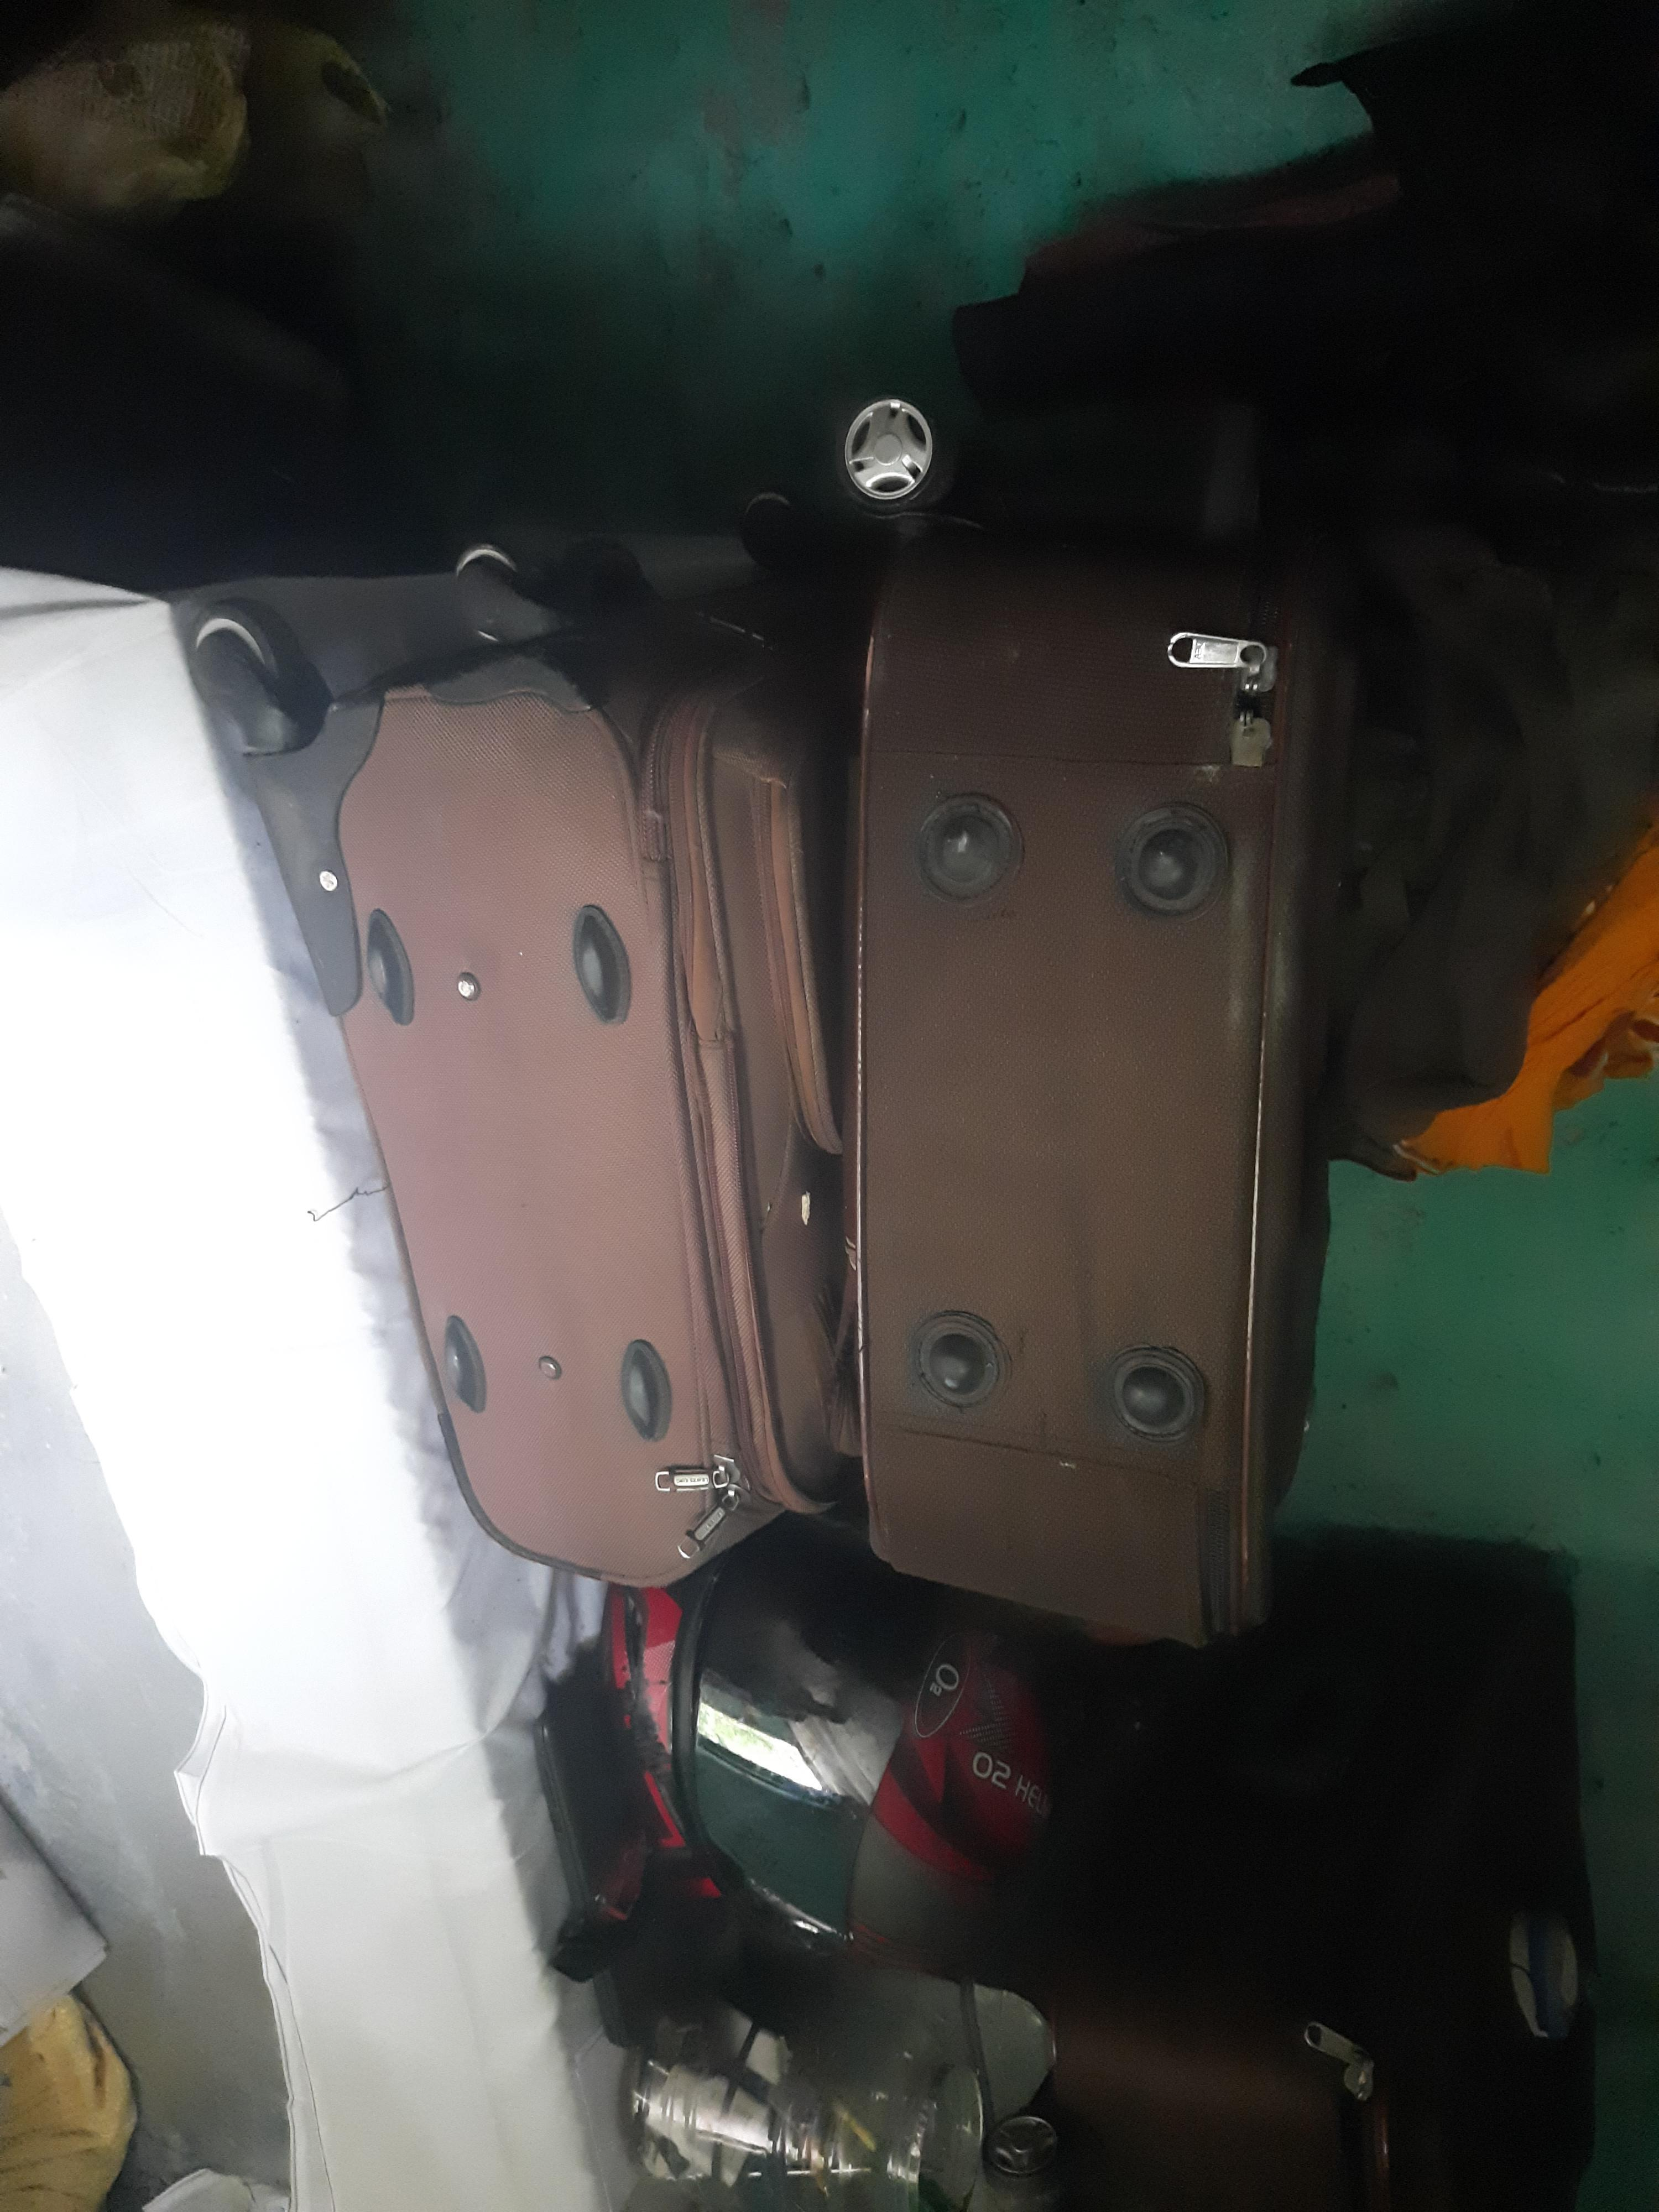suitcase: (821, 510, 1358, 1674), (306, 620, 891, 1561)
